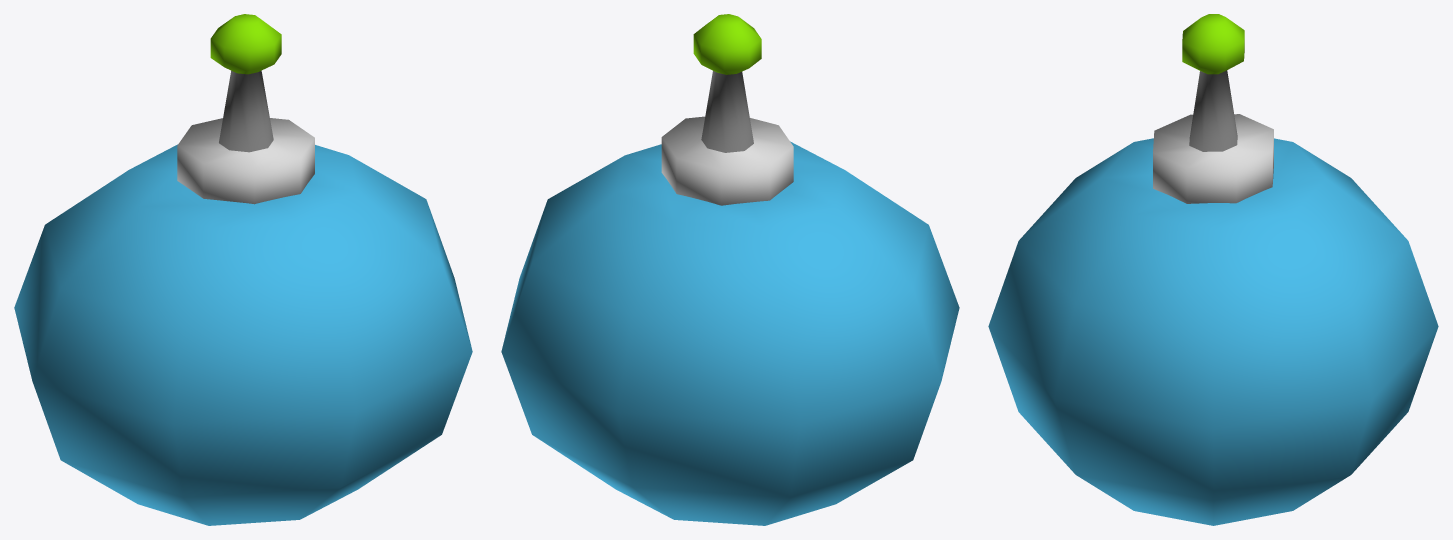
Rendered from fish_headOnly.glb.
The picture shows the model from 3 angles, left to right: view 1: azimuth 30°, elevation 25°; view 2: azimuth 150°, elevation 25°; view 3: azimuth 270°, elevation 25°; orthographic projection.
Parts seen in each view (by area): view 1: head_glass, head_antenna; view 2: head_glass, head_antenna; view 3: head_glass, head_antenna.
Part boxes in pixels (x1,y1,x2,y2): head_glass: [14, 144, 472, 525]; head_antenna: [177, 14, 314, 204]; head_glass: [501, 141, 959, 525]; head_antenna: [661, 14, 793, 205]; head_glass: [988, 138, 1438, 525]; head_antenna: [1153, 14, 1273, 203].
Size of the model in its own units: 1.97 by 2.04 by 1.83.
